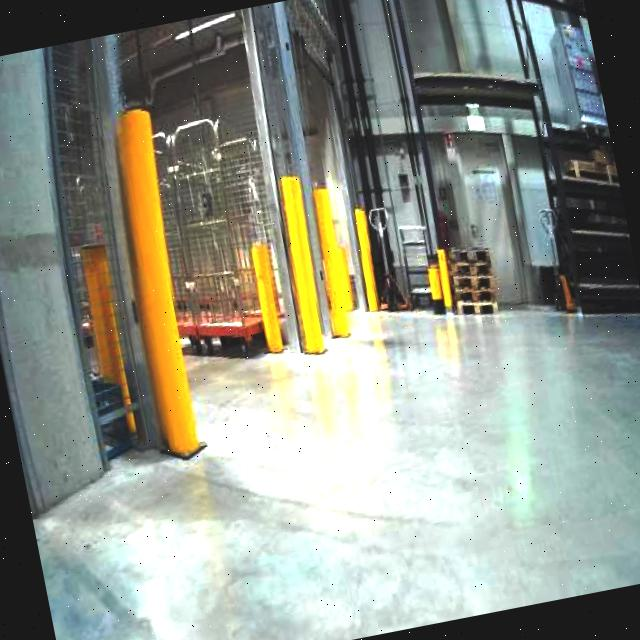ground: (5, 247, 640, 640)
pallet: (507, 0, 640, 337), (140, 107, 300, 366), (540, 131, 640, 333), (77, 239, 143, 438), (396, 208, 505, 328), (176, 290, 292, 366), (444, 239, 503, 320), (89, 370, 138, 460), (396, 219, 444, 308), (564, 147, 620, 196)
